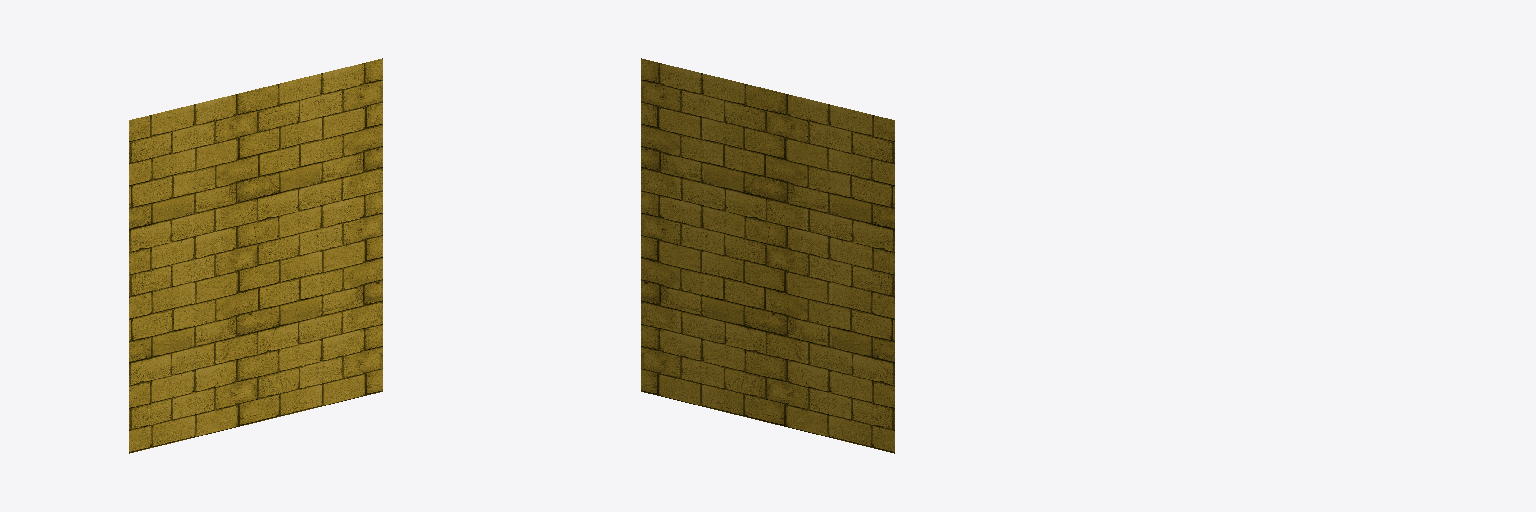
3 views of the same model, side by side, from view 1: azimuth 30°, elevation 25°; view 2: azimuth 150°, elevation 25°; view 3: azimuth 270°, elevation 25° (orthographic).
Parts seen in each view (by area): view 1: brick_wall_longx2; view 2: brick_wall_longx2; view 3: none.
Part boxes in pixels (bbox=[...]): brick_wall_longx2: bbox=[129, 58, 382, 453]; brick_wall_longx2: bbox=[641, 58, 894, 453].
Size of the model in its own units: 400 by 500 by 0.
Materials: 1 (1 with a texture image).